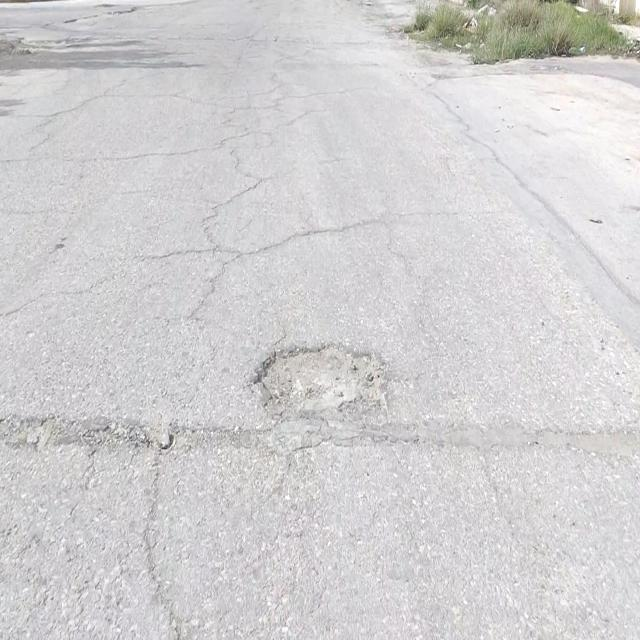Potholes: (250, 339, 389, 421)
